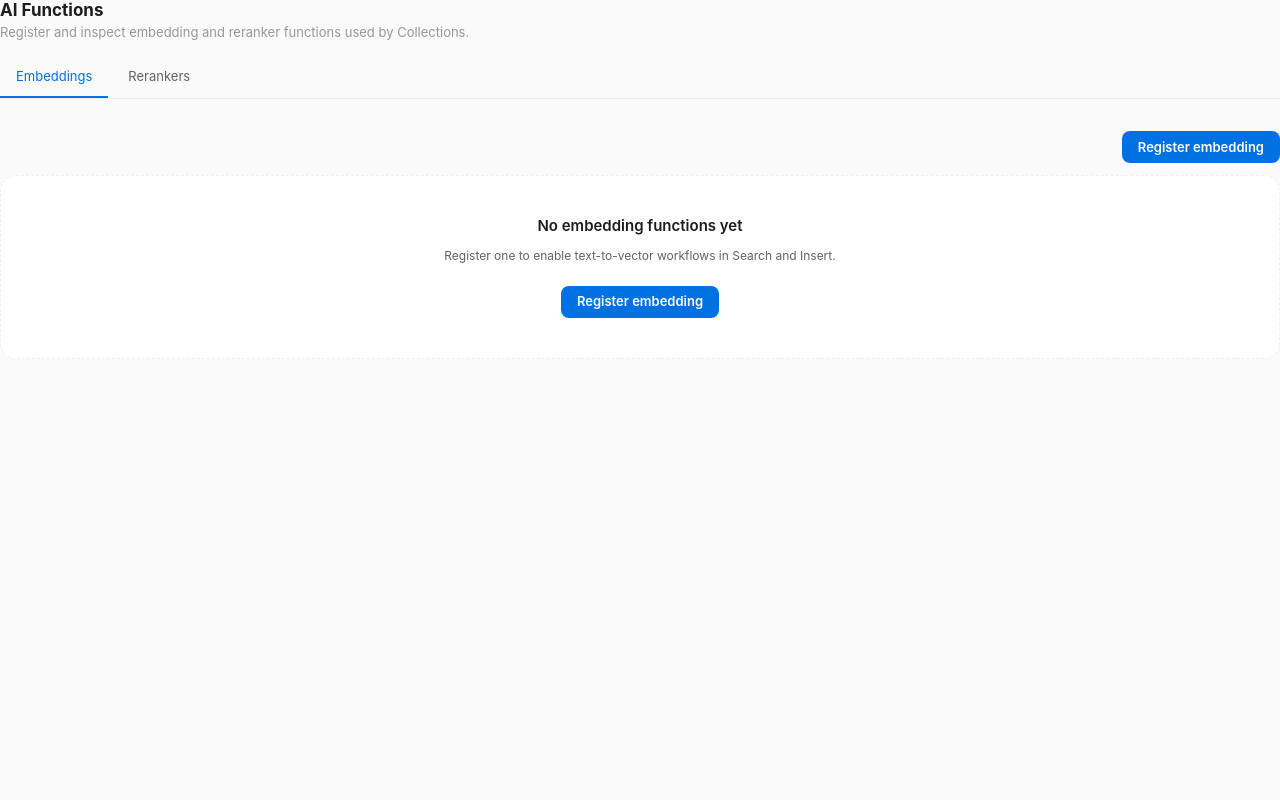
Test: AiFunctionsPage › opens the Create Embedding dialog and validates empty name
Expected: the message with test id "zv-ai-emb-empty" is shown, [0,175,1279,359]
Click the button with test id "zv-ai-emb-create" at coordinates (1201, 147), box [1122,131,1279,163]
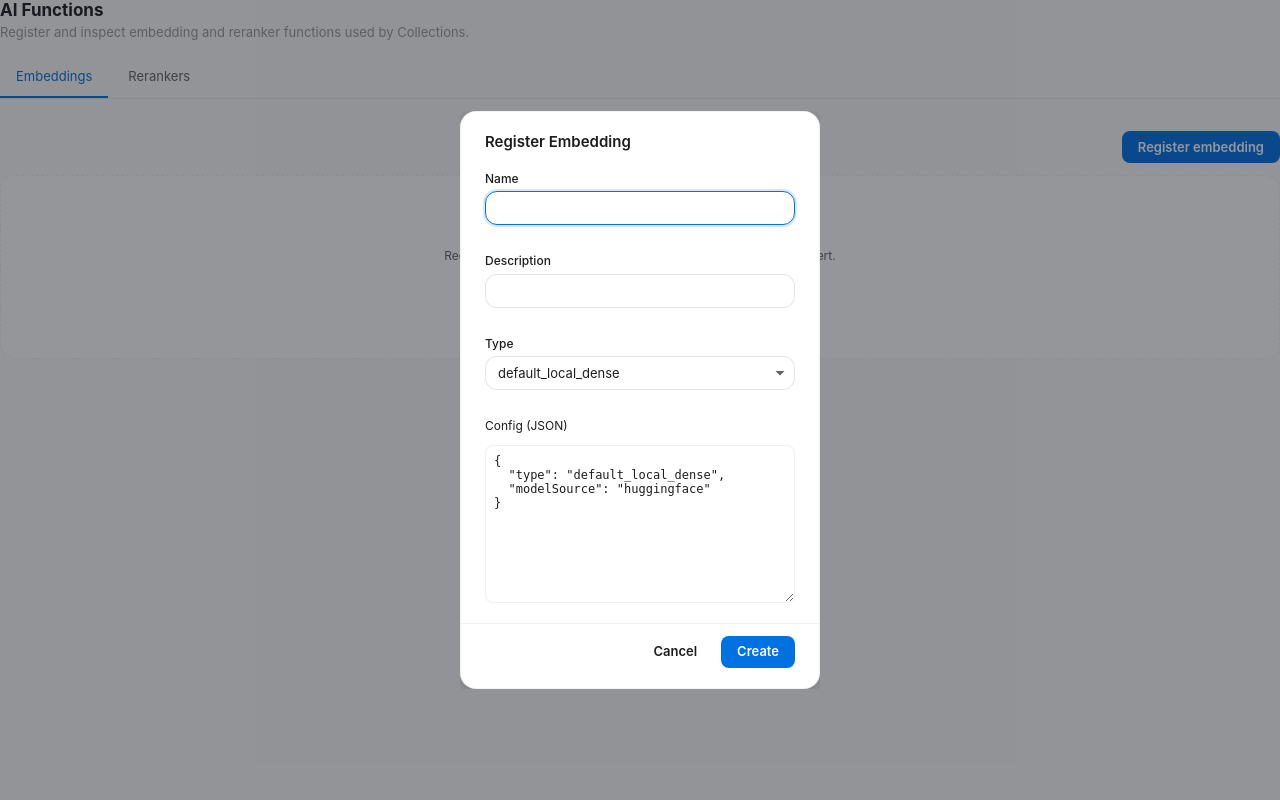
# Submit without filling the name
Click the button with test id "zv-ai-emb-create-submit" at coordinates (758, 652), box [721,636,795,668]
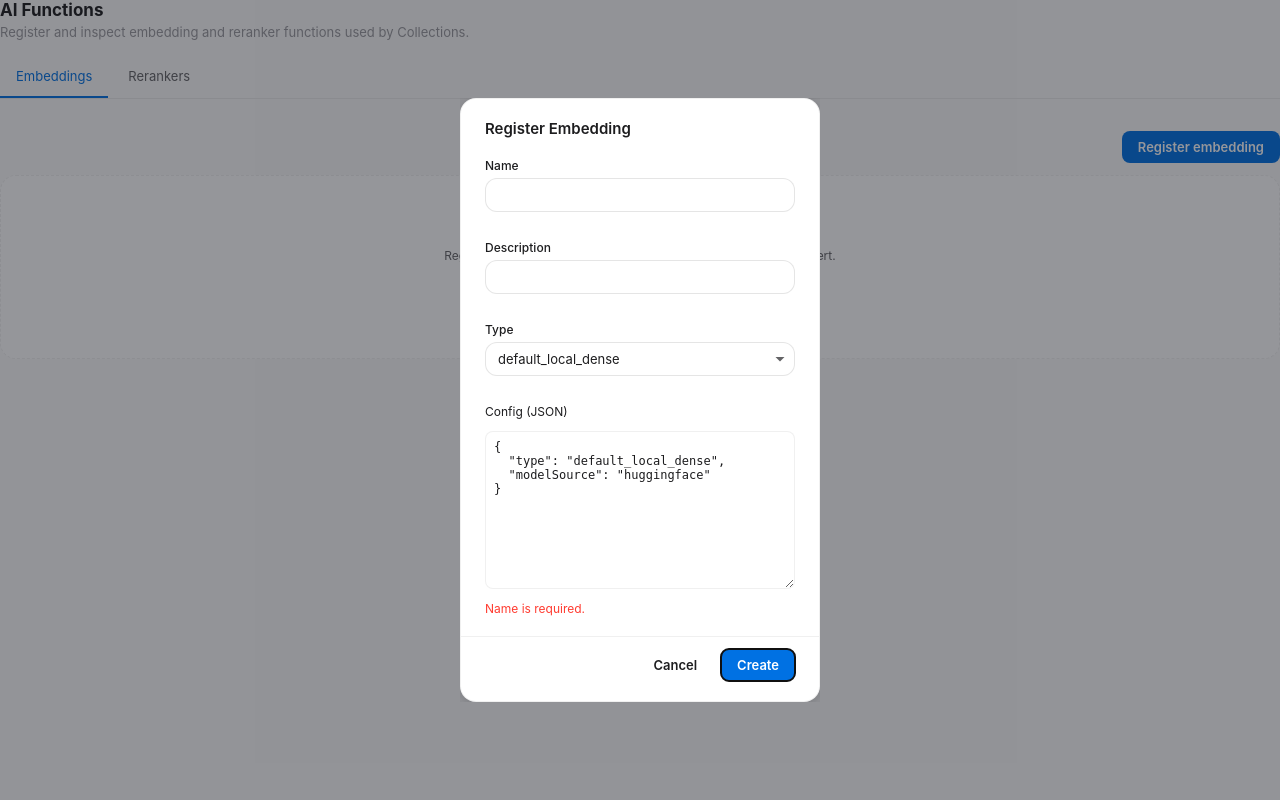
Result: the message "Name is required." is shown at [485,601,585,616]
